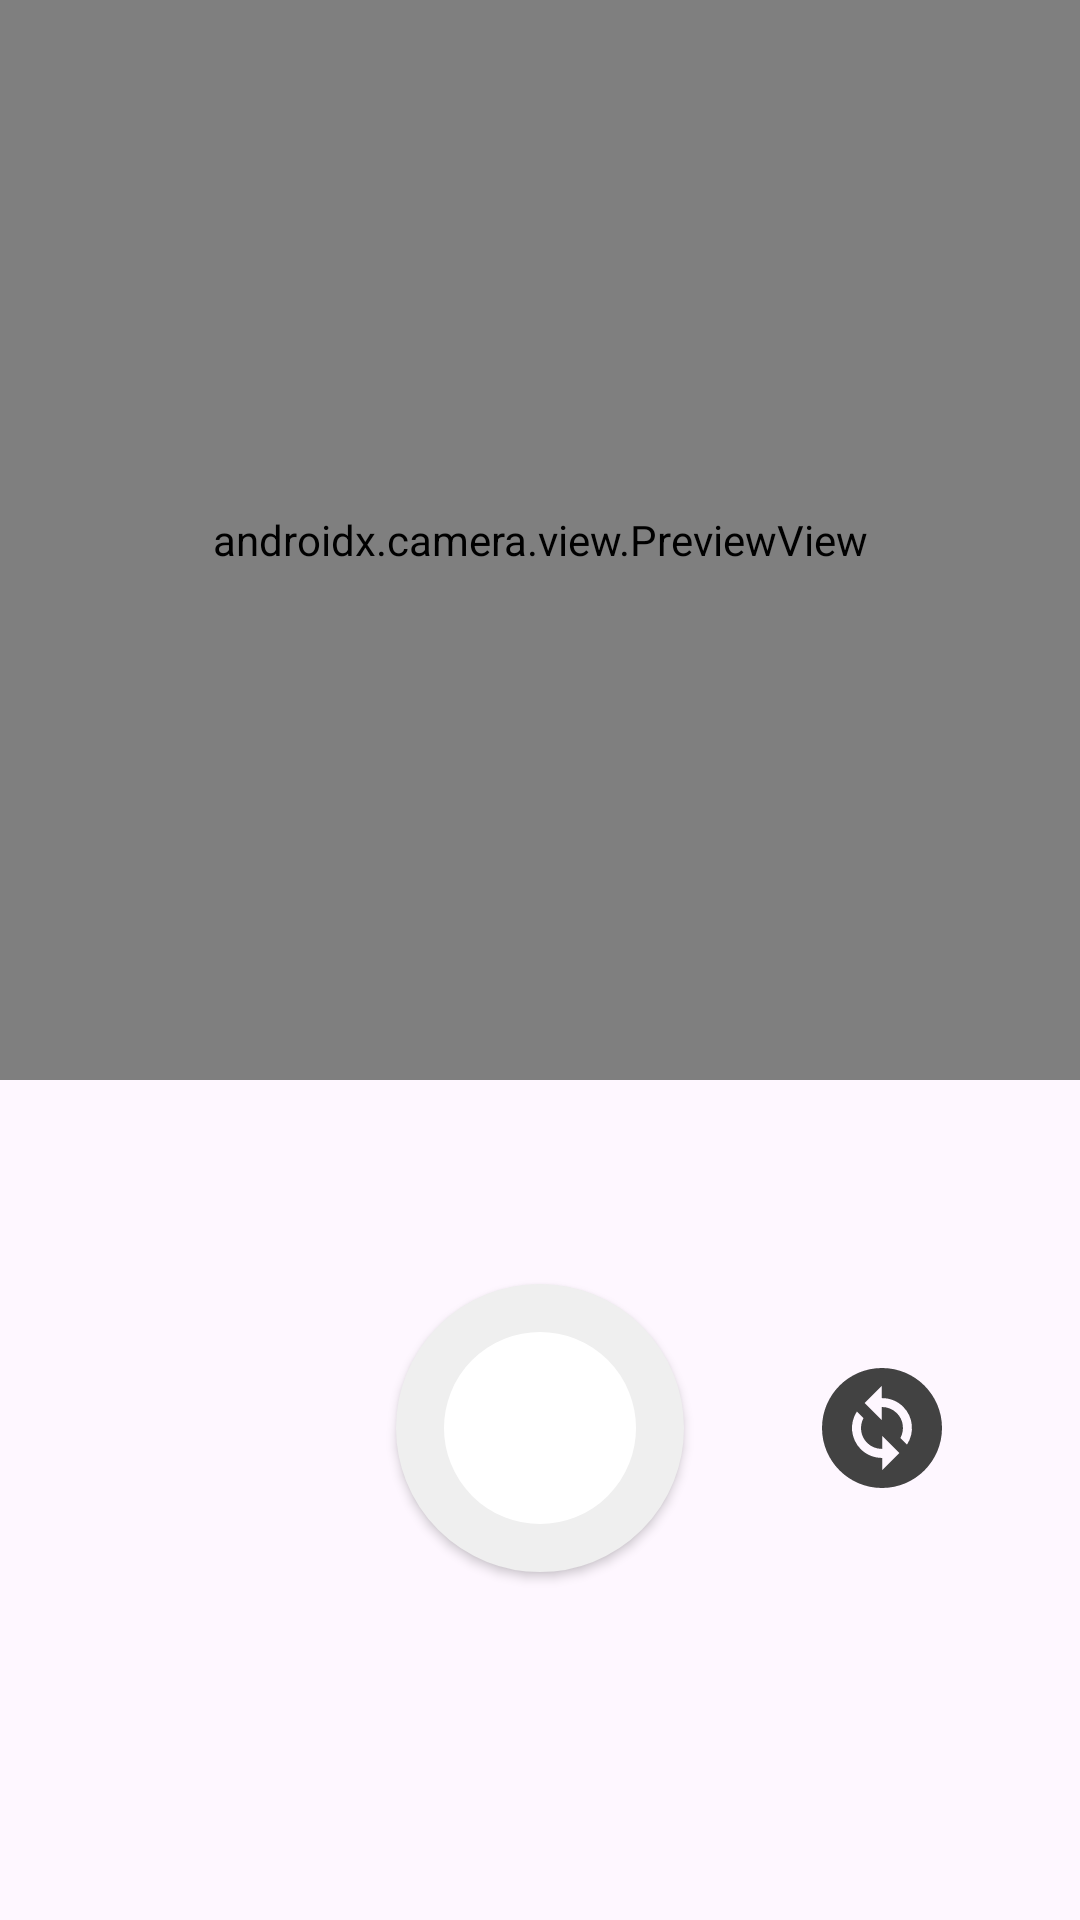

Screen size 1080px×1920px. Icon name, then its box in pixels as (x1, y1, x2, y2):
change circle: (822, 1368, 942, 1488)
